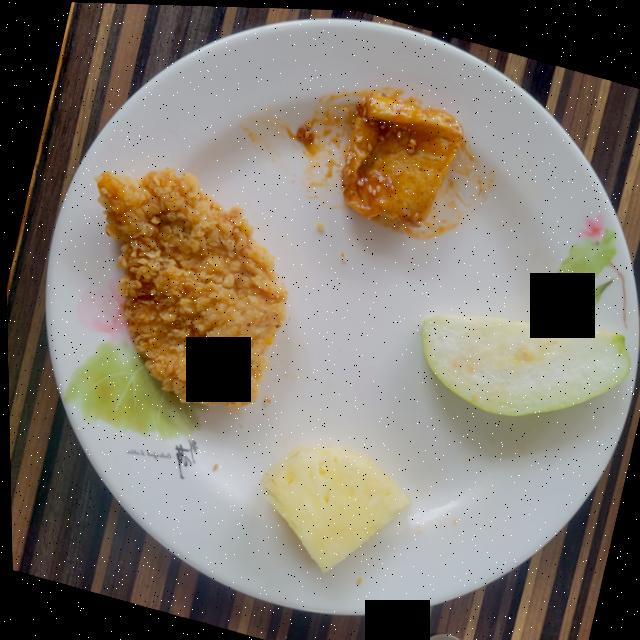coin: (417, 630, 458, 640)
creamy tofu: (339, 89, 461, 225)
fried chicken cutlet: (93, 167, 284, 409)
guava -sliced-: (419, 311, 628, 413)
pineapple: (257, 443, 408, 570)
